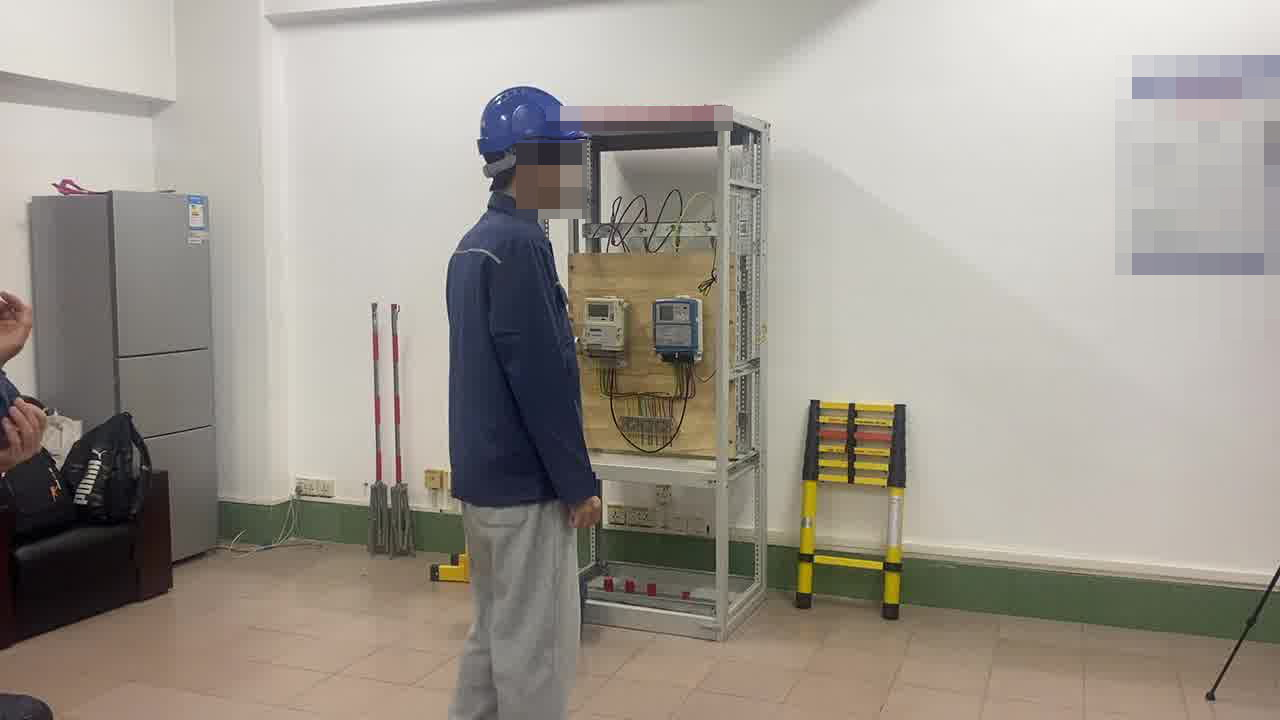downcloth: (448, 520, 586, 720)
halt: (476, 84, 588, 213)
hand: (1, 398, 49, 480), (1, 284, 34, 365), (570, 495, 602, 530)
noear: (509, 139, 554, 202)
person: (437, 81, 612, 720)
upsuit: (441, 195, 604, 504)
